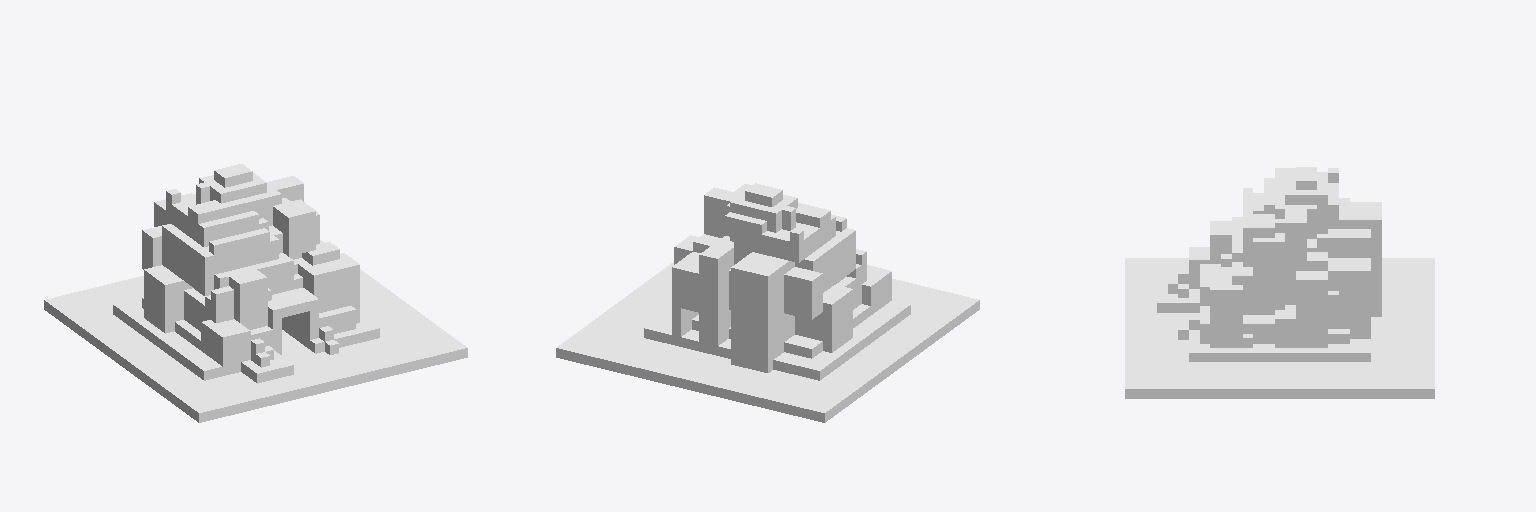
Rendered from MarbleMine.obj.
3 renders of one model, left to right at view 1: azimuth 30°, elevation 25°; view 2: azimuth 150°, elevation 25°; view 3: azimuth 270°, elevation 25°, orthographic.
Parts seen in each view (by area): view 1: object 1; view 2: object 1; view 3: object 1.
Boxes of the visible parts, <box> form: object 1: <box>44,164,467,422</box>; object 1: <box>556,183,979,422</box>; object 1: <box>1125,167,1434,398</box>.
Bounding box in the file's own units: 2.9 × 1.6 × 2.9.